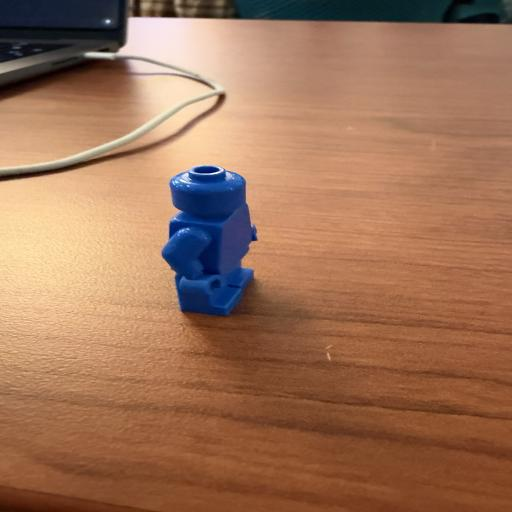blue_minifig: (161, 164, 258, 317)
